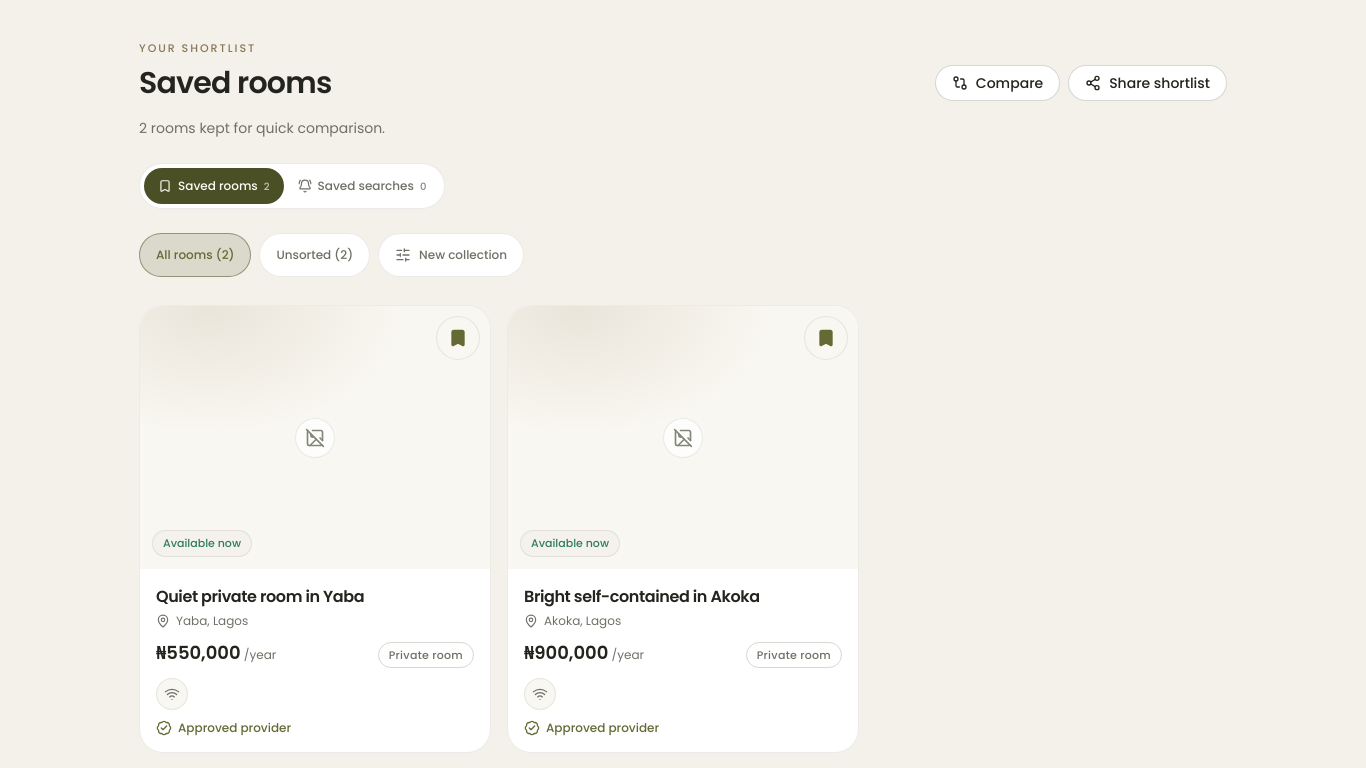
Test: Saved rooms tab › compares the rooms picked from the shortlist side by side
The width and height of the screenshot is (1366, 768).
Click the button "Compare".
click(997, 82)  # box [935, 64, 1060, 100]
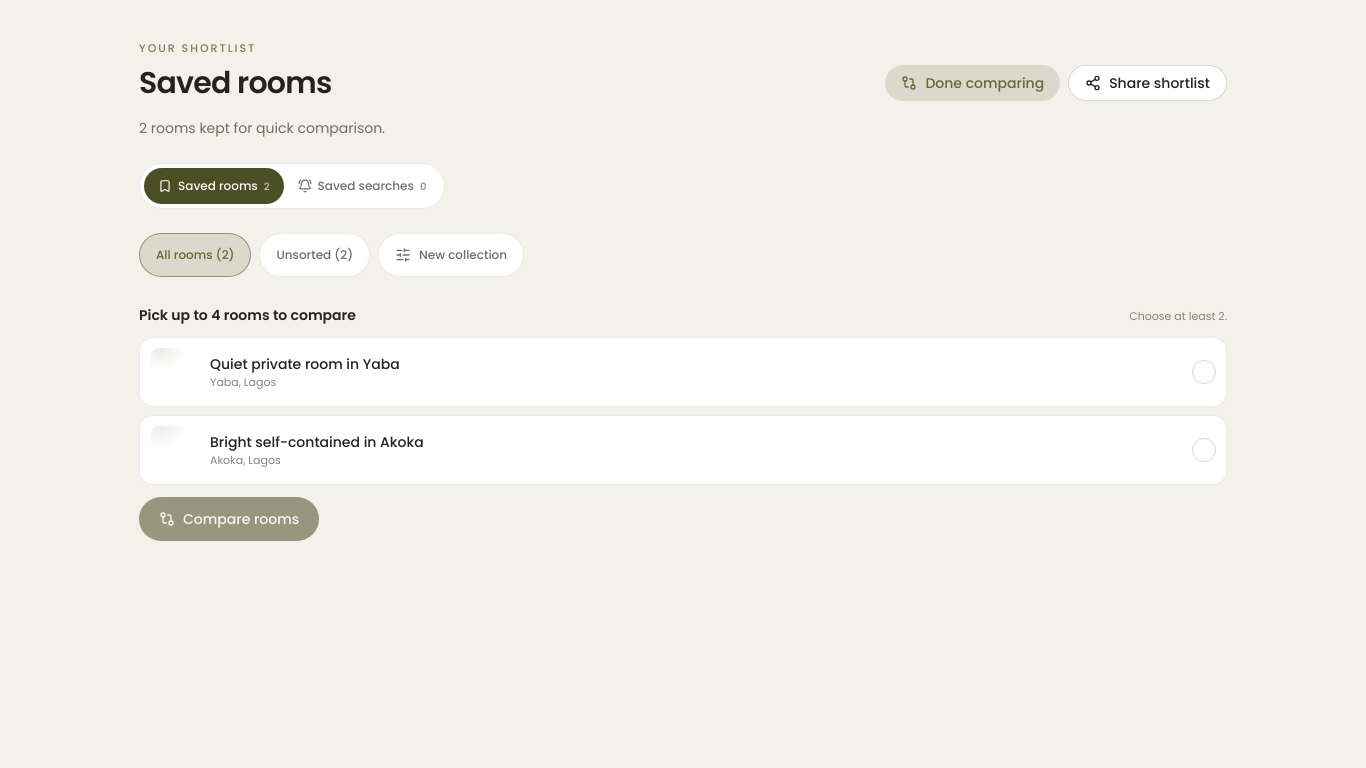
Check: the button "Compare rooms" is disabled, box [139, 497, 319, 541]
Click the button "Quiet private room in Yaba Yaba, Lagos".
click(174, 372)  # box [139, 337, 1227, 407]
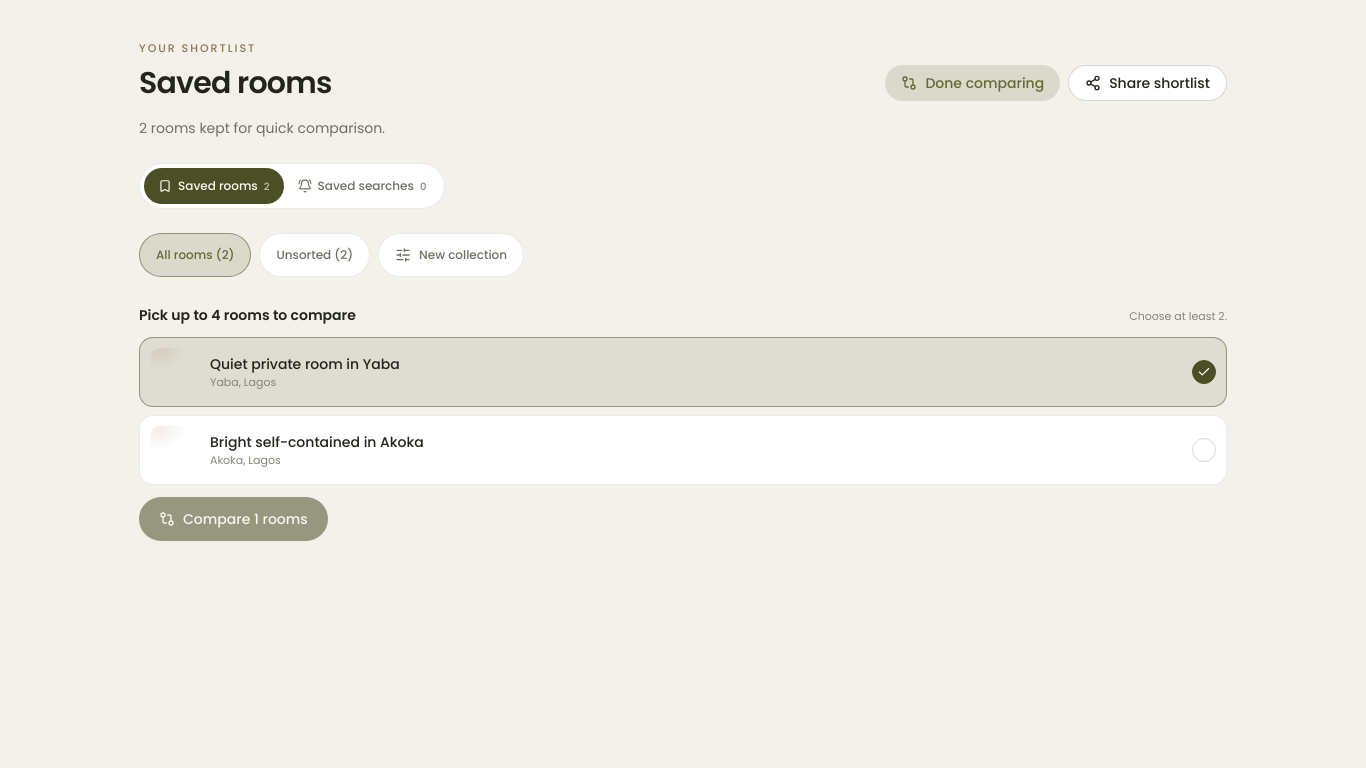
Click the button "Bright self-contained in Akoka Akoka, Lagos".
click(174, 450)  # box [139, 415, 1227, 485]
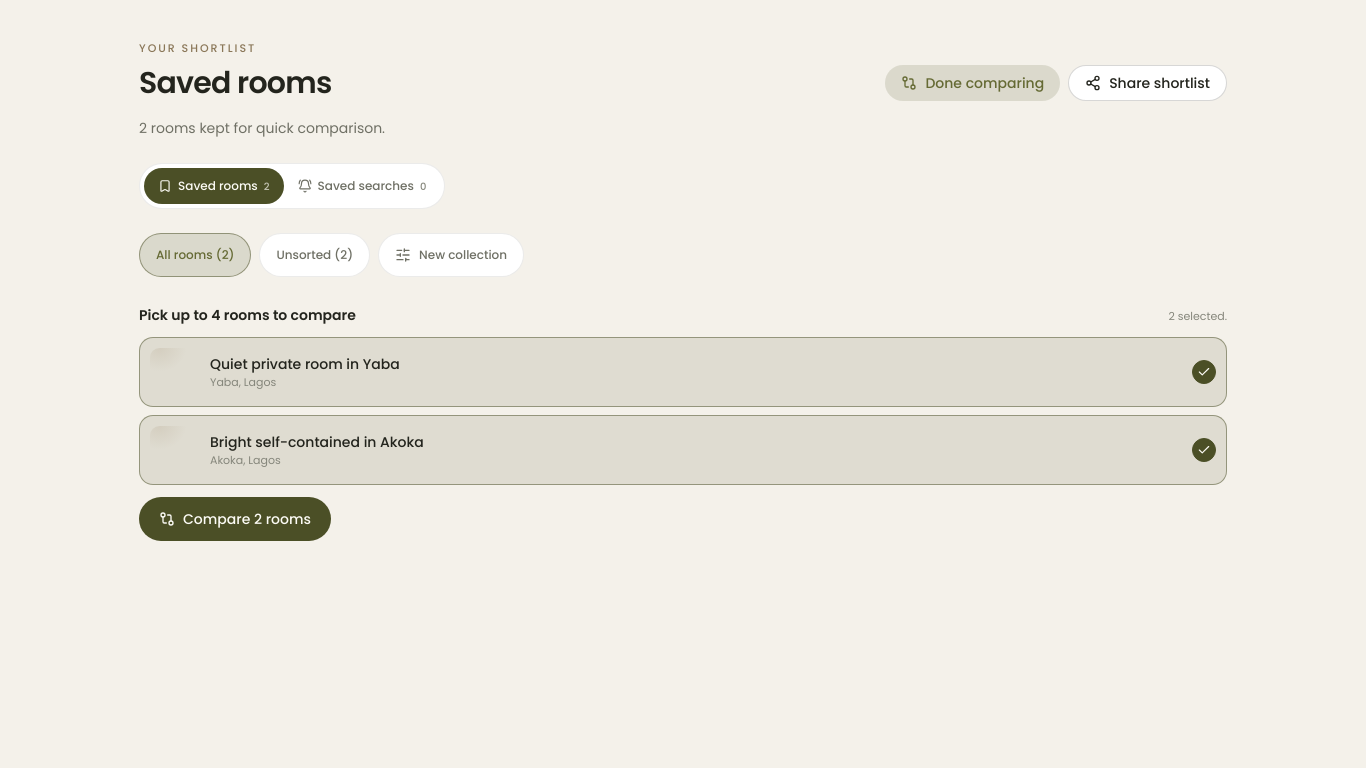
Click the button "Compare 2 rooms".
click(235, 519)  # box [139, 497, 331, 541]
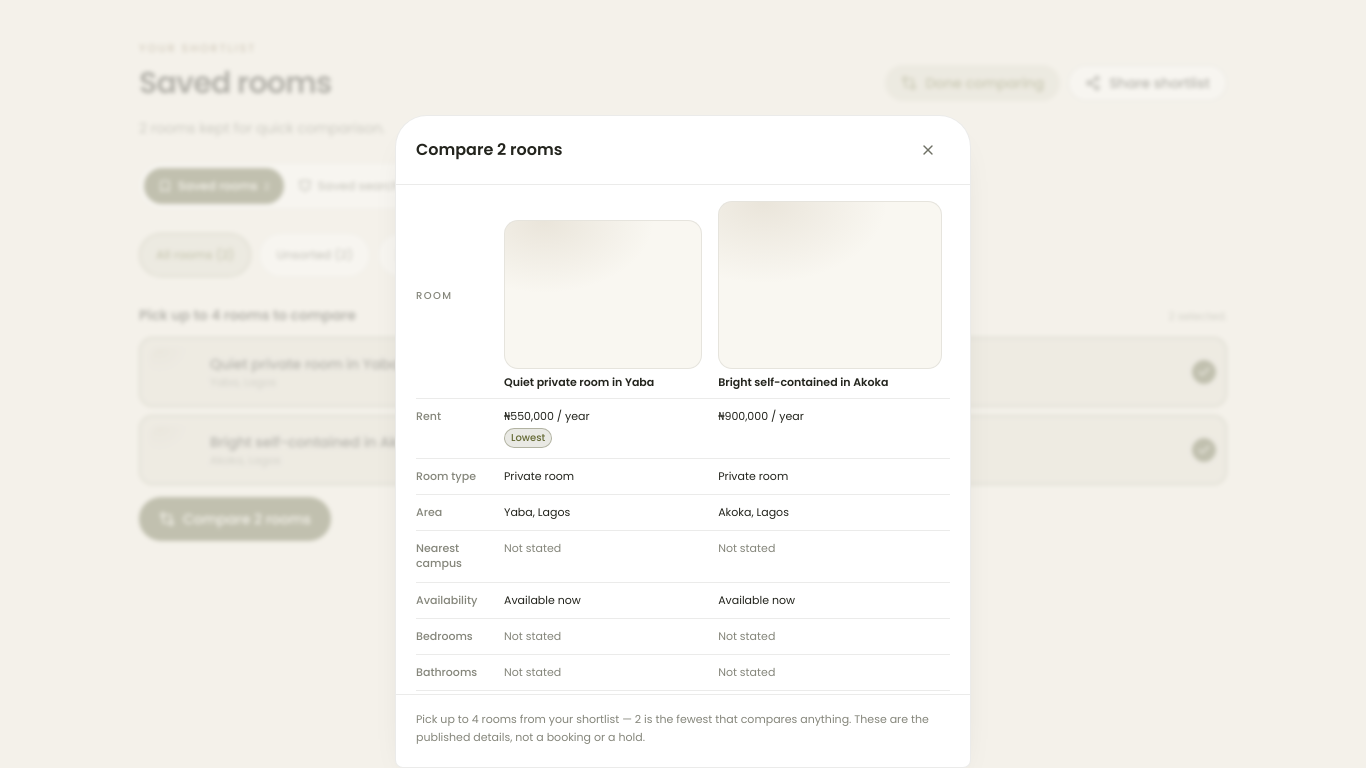
Check: the text "Quiet private room in Yaba" is shown, box [504, 374, 654, 390]
Check: the text "Bright self-contained in Akoka" is shown, box [718, 374, 888, 390]
Check: the text "Lowest" is shown, box [504, 428, 552, 448]
